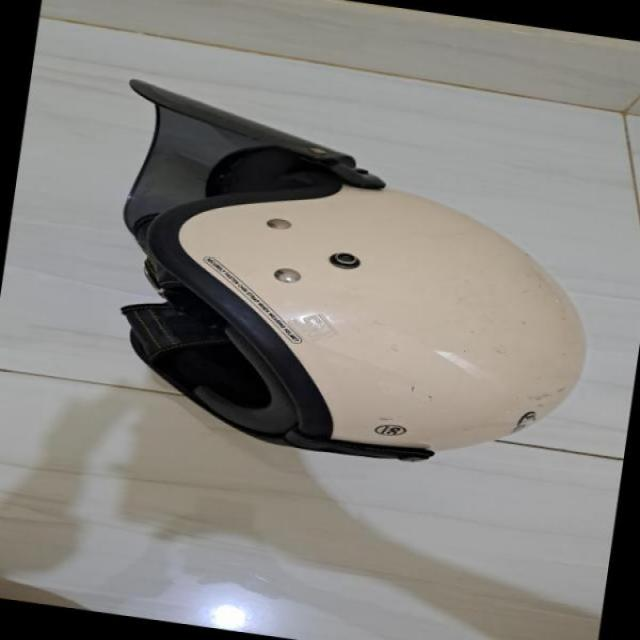Helmet: (97, 54, 616, 455)
